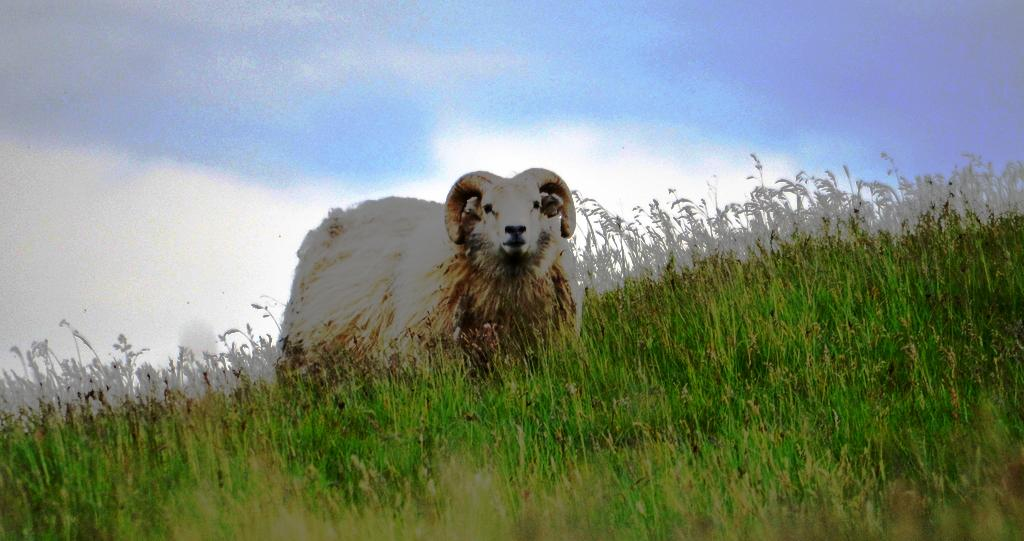Sheep: (276, 166, 584, 370)
